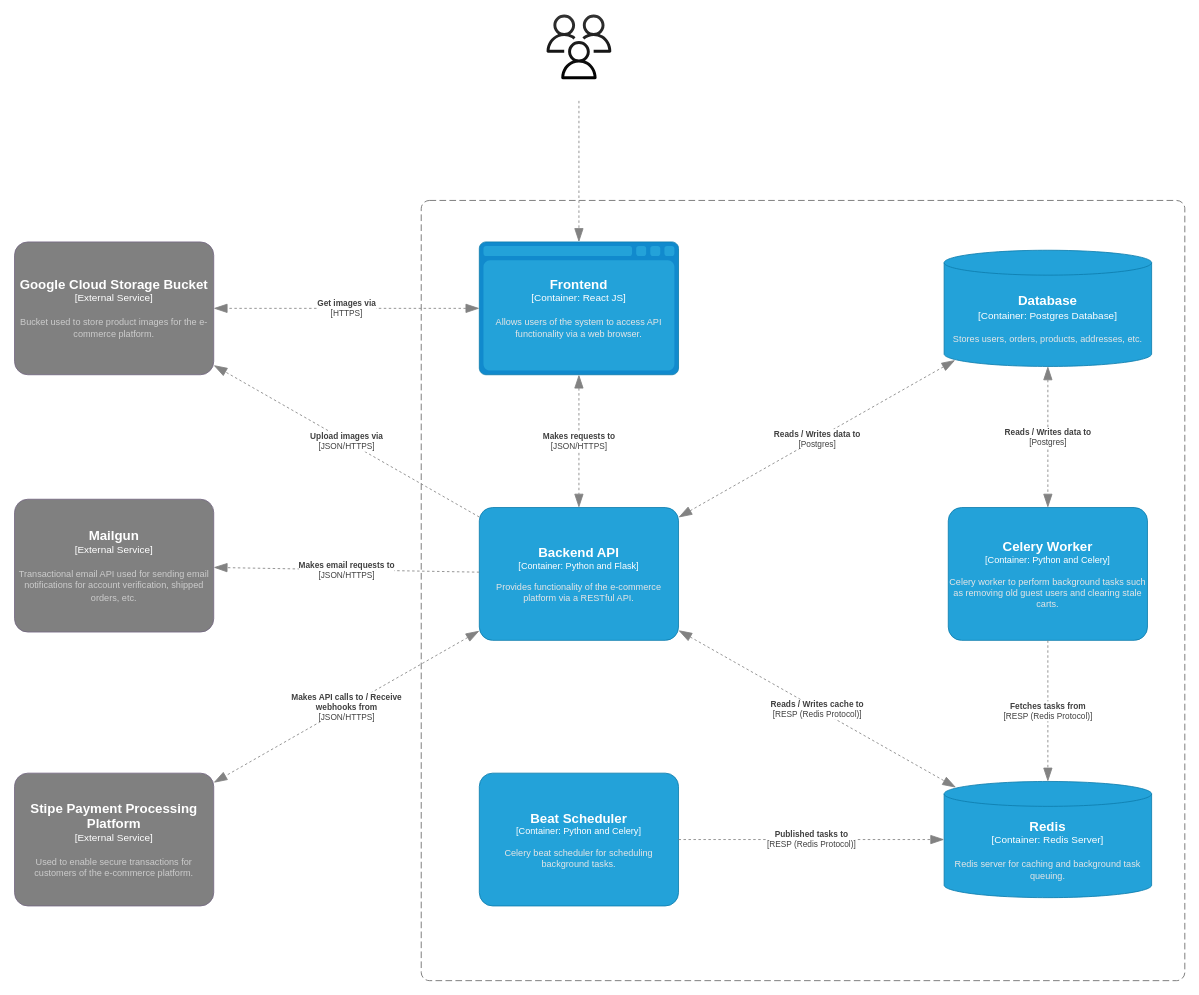
The diagram is 1199 pixels wide and 995 high, and some of its shapes have lost their labels. The box of each missing label's shape, as (x1, y1, x2, y2) in pixels:
E-Commerce Application [Software System]: (420, 200, 1185, 981)
Users: (546, 14, 611, 79)
